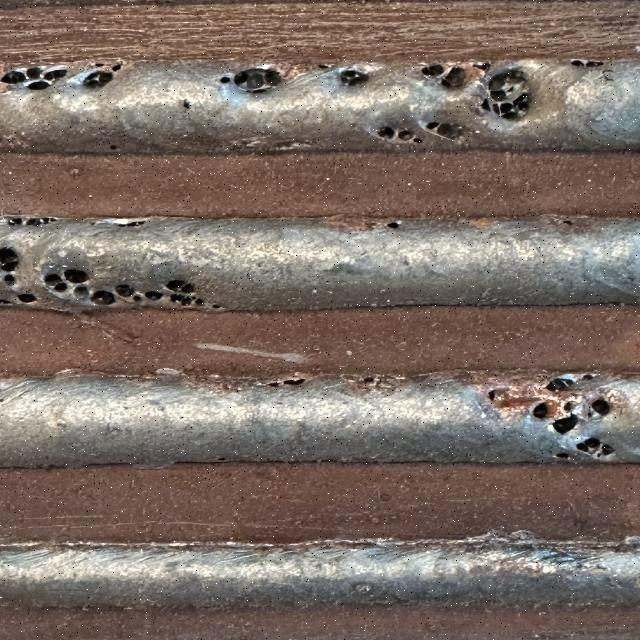Porosity: (2, 62, 123, 91), (482, 68, 530, 120), (235, 68, 282, 92), (577, 438, 615, 458), (425, 121, 463, 140), (442, 66, 467, 88), (2, 216, 57, 226), (338, 69, 370, 86), (553, 415, 578, 434), (167, 280, 195, 294), (65, 269, 88, 284), (548, 378, 573, 391), (422, 64, 445, 78), (92, 291, 115, 305), (570, 59, 603, 68), (532, 402, 548, 419), (0, 248, 18, 263), (592, 400, 610, 415), (116, 284, 135, 298), (170, 295, 193, 306), (377, 126, 395, 138), (0, 260, 17, 272), (45, 274, 62, 286), (73, 286, 88, 298), (117, 221, 147, 227), (398, 130, 413, 141), (145, 291, 163, 300), (473, 62, 490, 71), (18, 294, 37, 302), (3, 274, 15, 285), (283, 379, 305, 385), (53, 282, 67, 291), (387, 221, 400, 229), (563, 401, 573, 411), (220, 76, 230, 84), (557, 452, 568, 459), (488, 390, 495, 401), (363, 376, 375, 382), (268, 382, 281, 387), (183, 100, 190, 109), (195, 299, 205, 305), (582, 375, 593, 380), (133, 295, 141, 301), (413, 138, 422, 142)
